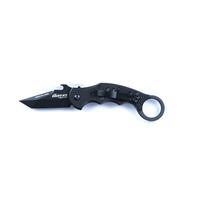knife: (15, 75, 188, 127)
